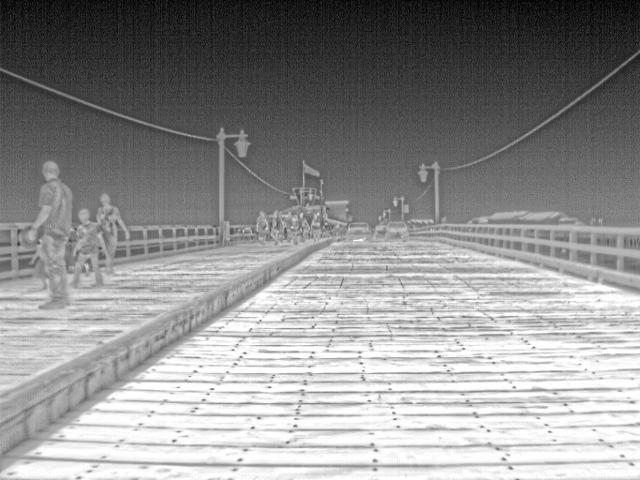car: (383, 221, 413, 241), (345, 221, 371, 241)
person: (26, 158, 72, 306), (68, 211, 106, 287), (98, 193, 128, 273), (266, 209, 285, 244), (289, 212, 304, 244), (309, 212, 324, 243), (282, 208, 295, 243), (255, 209, 269, 241), (299, 213, 311, 244)
